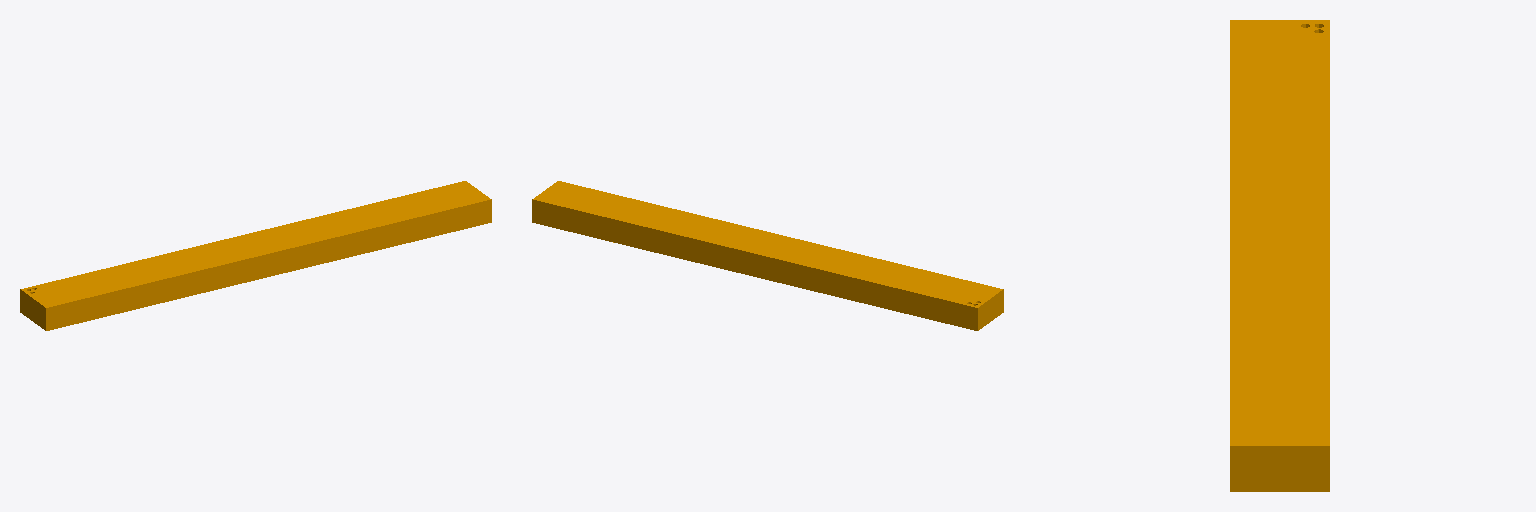
The robot description file, URDF, robot "Beam":
<?xml version="1.0"?>
<robot name="Beam">
  <link name="base_link">
    <visual>
      <origin rpy="0 0 0" xyz="0 0 0"/>
      <geometry>
        <mesh filename="Beam.obj" scale="1.0 1.0 1.0"/>
      </geometry>
    </visual>
    <inertial>
      <origin rpy="0 0 0" xyz="0 0 0"/>
       <mass value=".0"/>
       <inertia ixx="0" ixy="0" ixz="0" iyy="0" iyz="0" izz="0"/>
    </inertial>
  </link>
</robot>

--- What the picture shows (computed from the rendered views, not written in the file) ---
Views: 3 orthographic renders of the robot side by side, from view 1: azimuth 30°, elevation 25°; view 2: azimuth 150°, elevation 25°; view 3: azimuth 270°, elevation 25°.
Model Beam with 1 links and 0 joints (none), rooted at base_link, posed all joints at 0.
Links seen in each view (by area): view 1: base_link; view 2: base_link; view 3: base_link.
Boxes of the visible links, x1=… form: base_link: x1=20, y1=181, x2=491, y2=330; base_link: x1=532, y1=181, x2=1003, y2=330; base_link: x1=1230, y1=20, x2=1329, y2=491.
Bounding box of the posed robot: 200 × 20 × 10 m (x, y, z).
Meshes: 1 distinct files referenced, 1 mesh visuals loaded (1 OBJ).